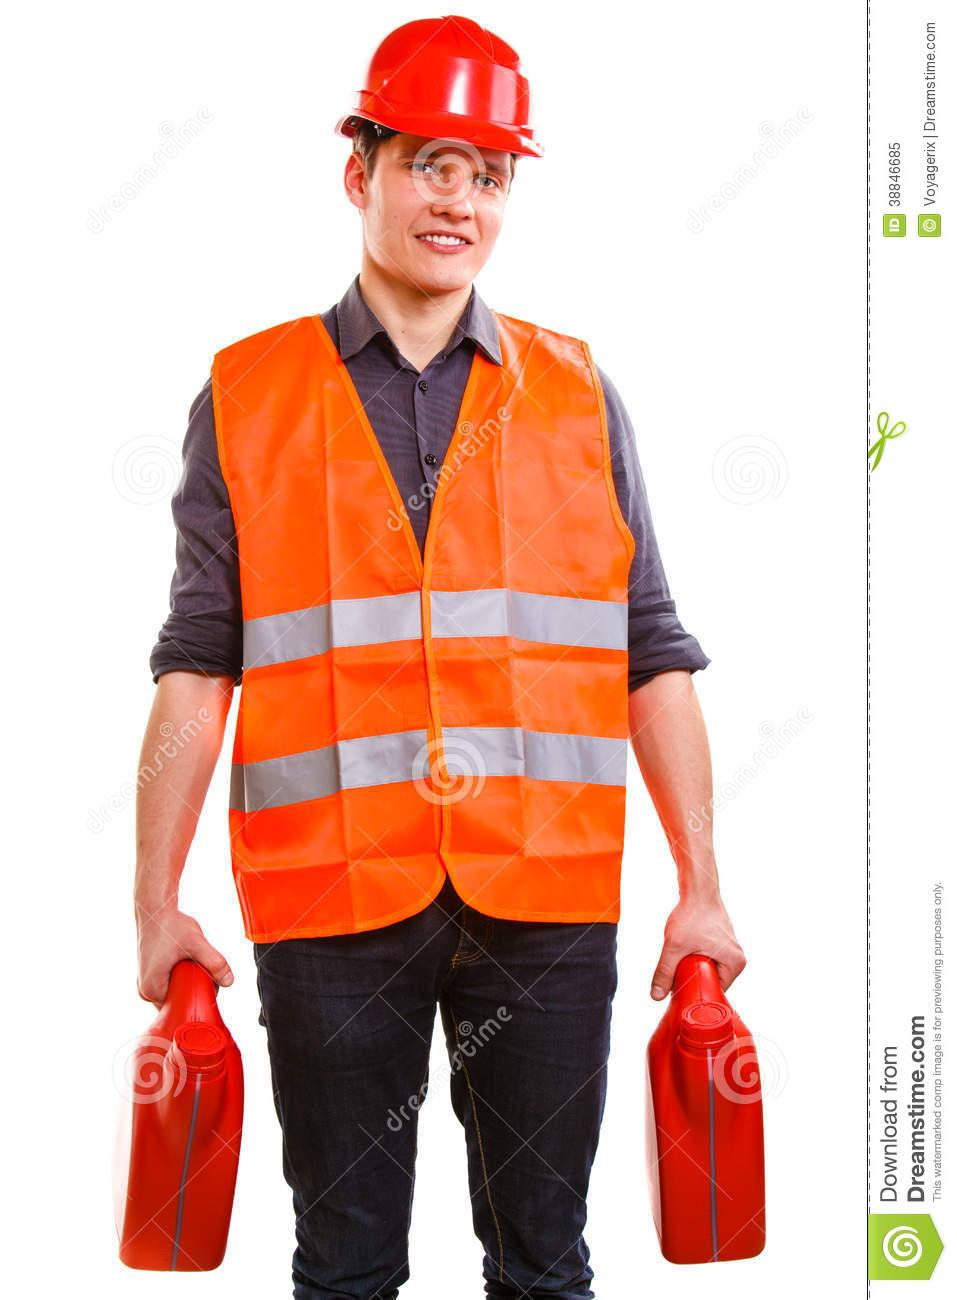helmet: (345, 11, 547, 169)
